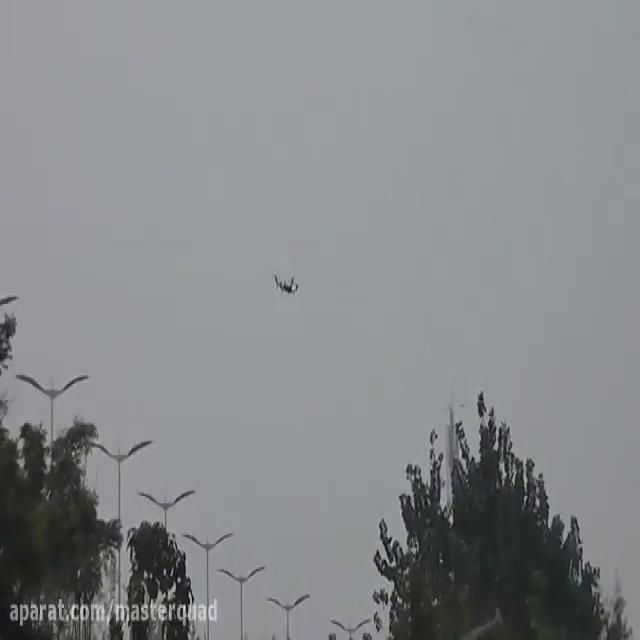drone: (268, 265, 302, 299)
